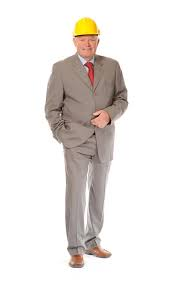casque: (43, 11, 138, 278)
